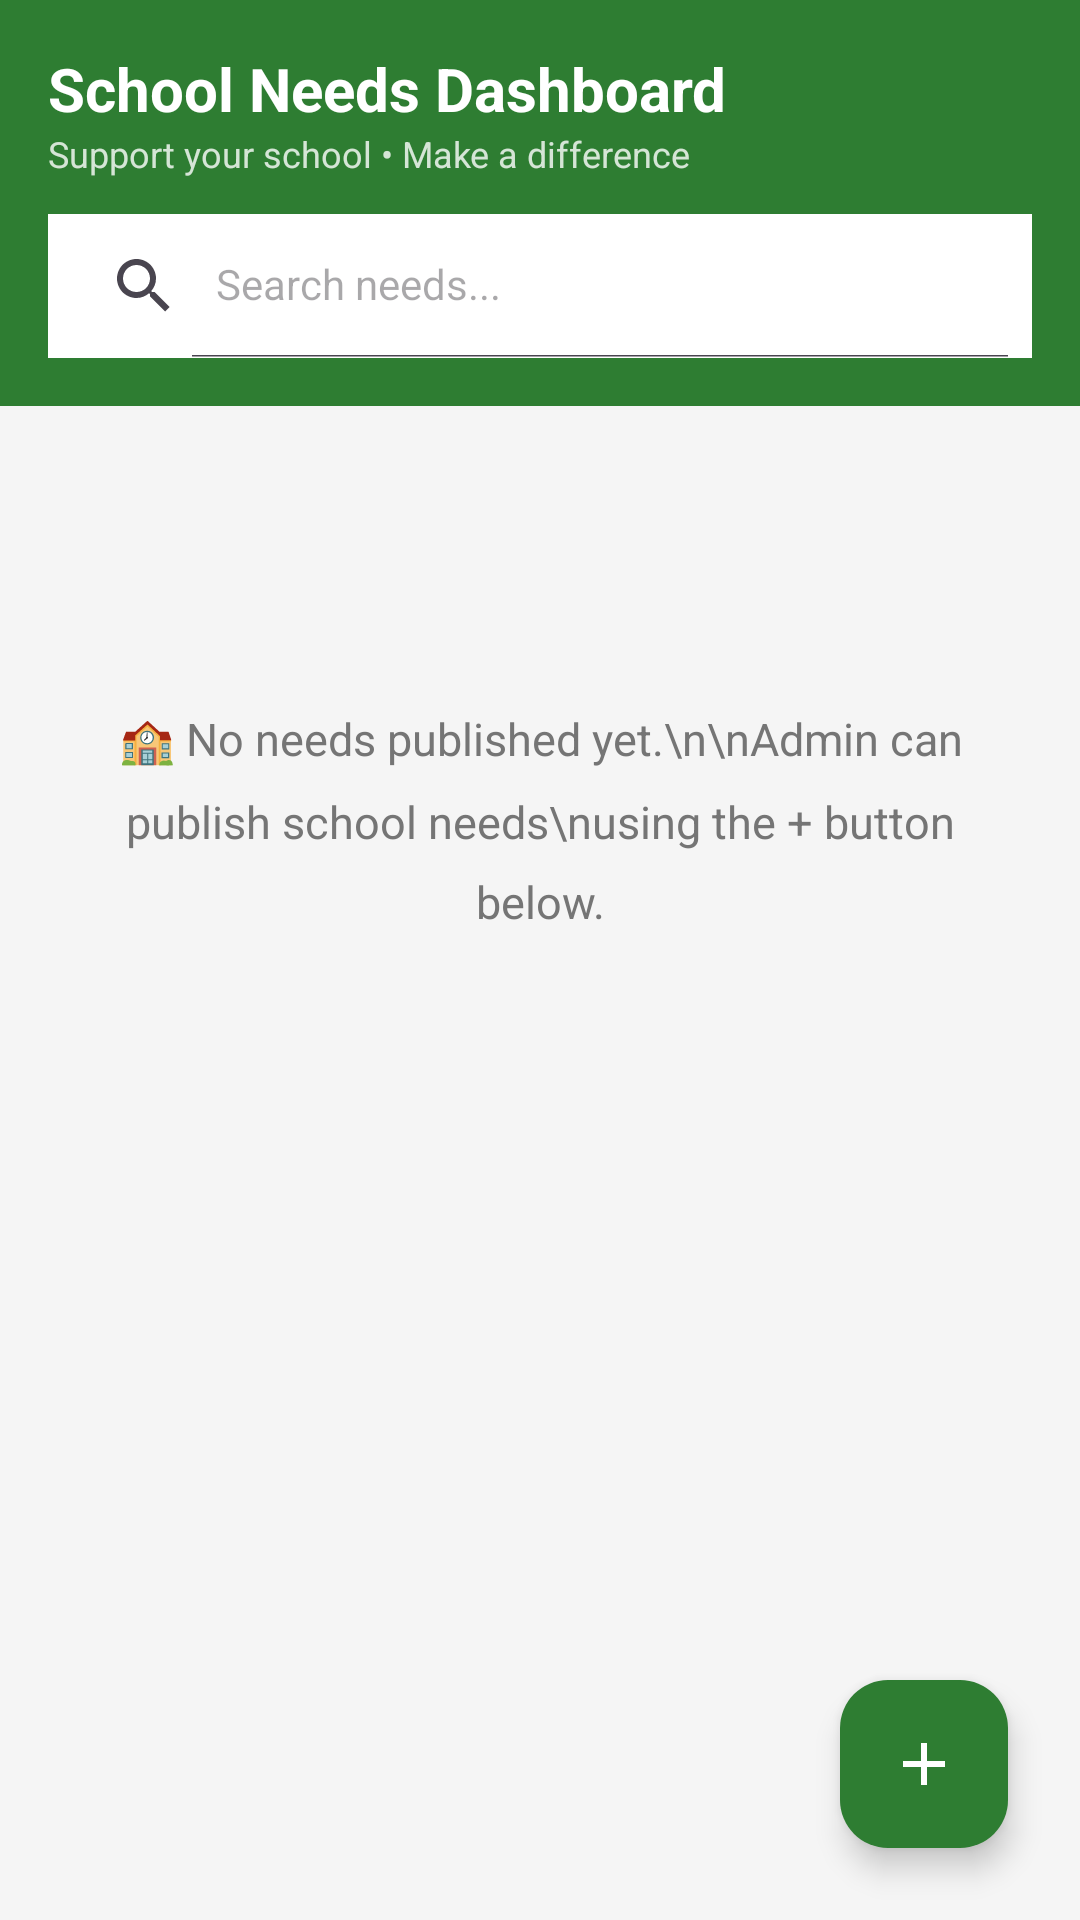

Icon click points for this 1080px×1920px phone screenshot, format (x,y):
Publish Need: (924,1764)
